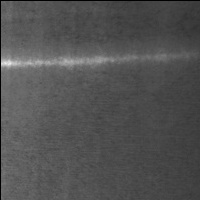scratches: (1, 54, 195, 71)
